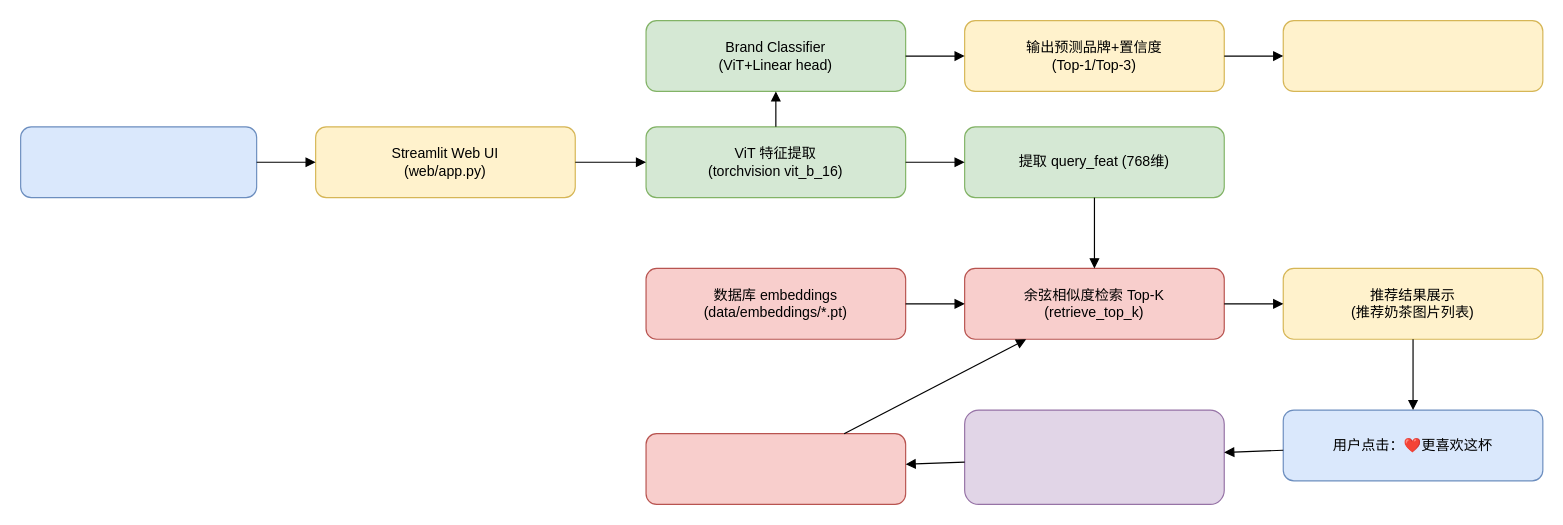
Some shapes in this 1563 by 525 pixel diagram are drawn without their labels. Here are the shapes that lost their labels. From the top down, the box of each, then its label:
(1282, 19, 1543, 91): 自动勾选品牌筛选 filter
(19, 126, 257, 198): 用户上传奶茶图片
(645, 432, 906, 504): 下一轮检索推荐
(963, 409, 1224, 504): 偏好向量更新 q_{t+1}=(1-α)q_t+α f_selected
